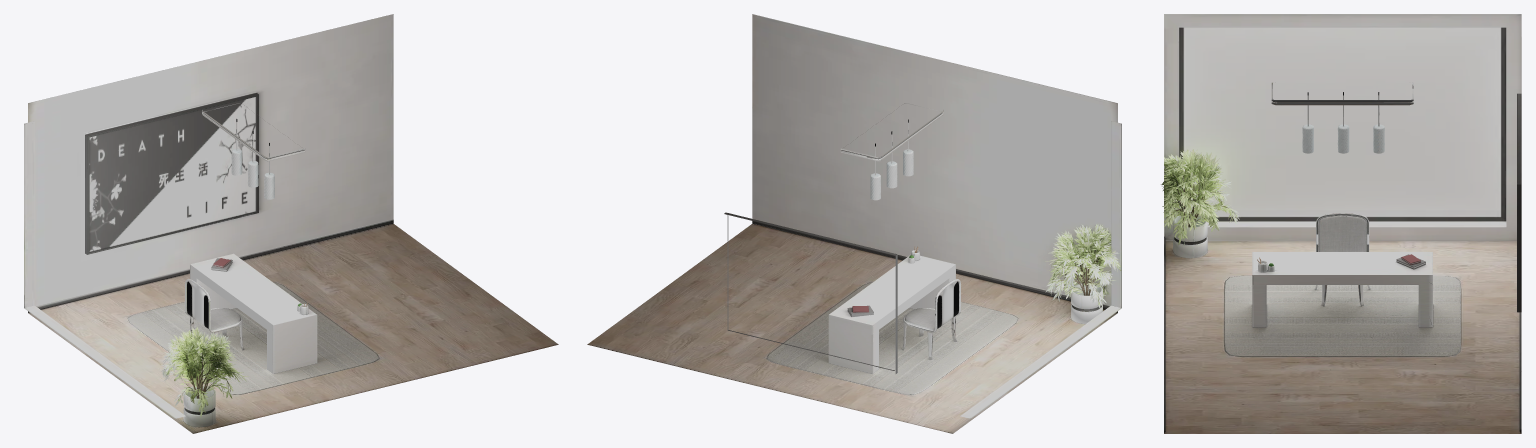
The model's file is office.glb.
The picture shows the model from 3 angles, left to right: view 1: azimuth 30°, elevation 25°; view 2: azimuth 150°, elevation 25°; view 3: azimuth 270°, elevation 25°; orthographic projection. The views are drawn at different scales.
Visible parts, largest first — view 1: Window; view 2: Window; view 3: Window.
Part boxes in pixels (bbox=[...]): Window: bbox=[24, 14, 558, 433]; Window: bbox=[587, 14, 1121, 433]; Window: bbox=[1161, 14, 1521, 433].
Bounding box in the file's own units: 5.98 × 3.08 × 4.44.
11 materials, 10 textured.
